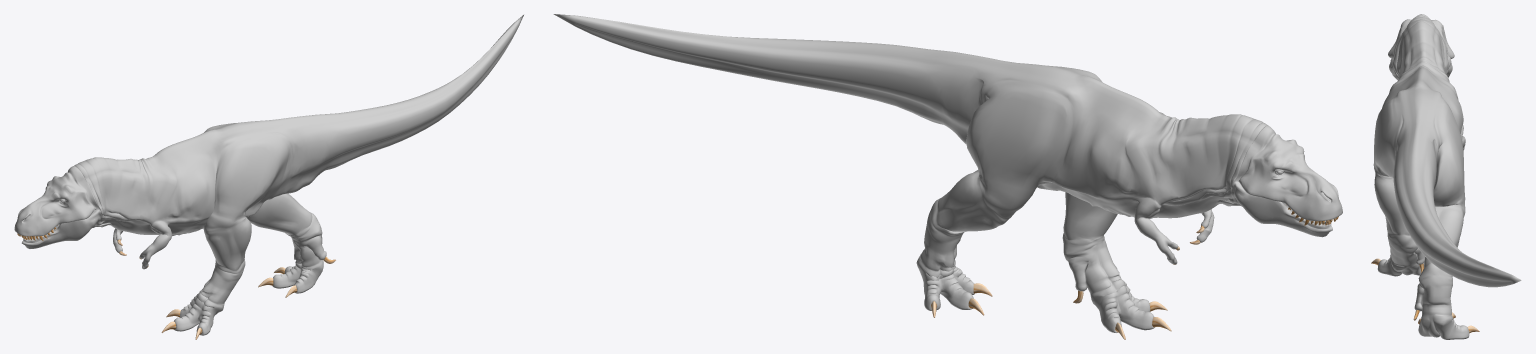
The model's file is TREXflesh.fbx.
3 views of the same model, side by side, from view 1: azimuth 30°, elevation 25°; view 2: azimuth 150°, elevation 25°; view 3: azimuth 270°, elevation 25° (orthographic). The views are drawn at different scales.
Visible parts, largest first — view 1: Skin; view 2: Skin; view 3: Skin.
Boxes of the visible parts, box(x1,y1,x2,y2) form: Skin: box(14, 15, 523, 339); Skin: box(553, 14, 1342, 339); Skin: box(1371, 14, 1521, 339).
Bounding box in the file's own units: 24017 × 7720 × 5200.
